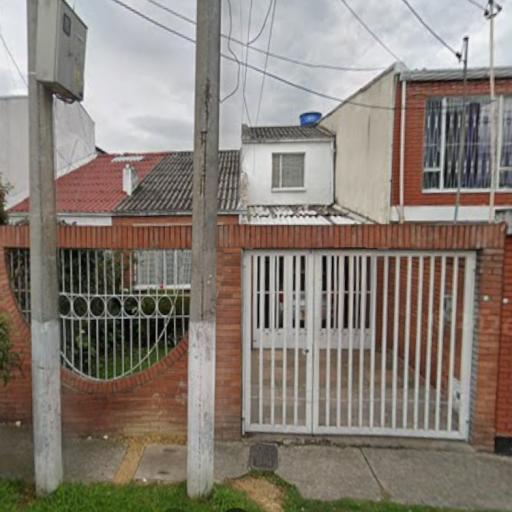poste: (18, 0, 97, 499), (182, 2, 226, 507)
